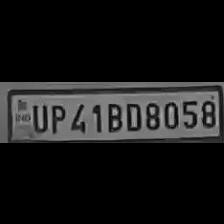0: (161, 97, 179, 128)
1: (88, 100, 104, 132)
4: (67, 100, 89, 132)
5: (180, 96, 198, 128)
8: (143, 98, 161, 130), (198, 96, 216, 128)
B: (104, 98, 122, 132)
D: (123, 97, 143, 130)
P: (46, 100, 66, 132)
U: (28, 100, 48, 132)
